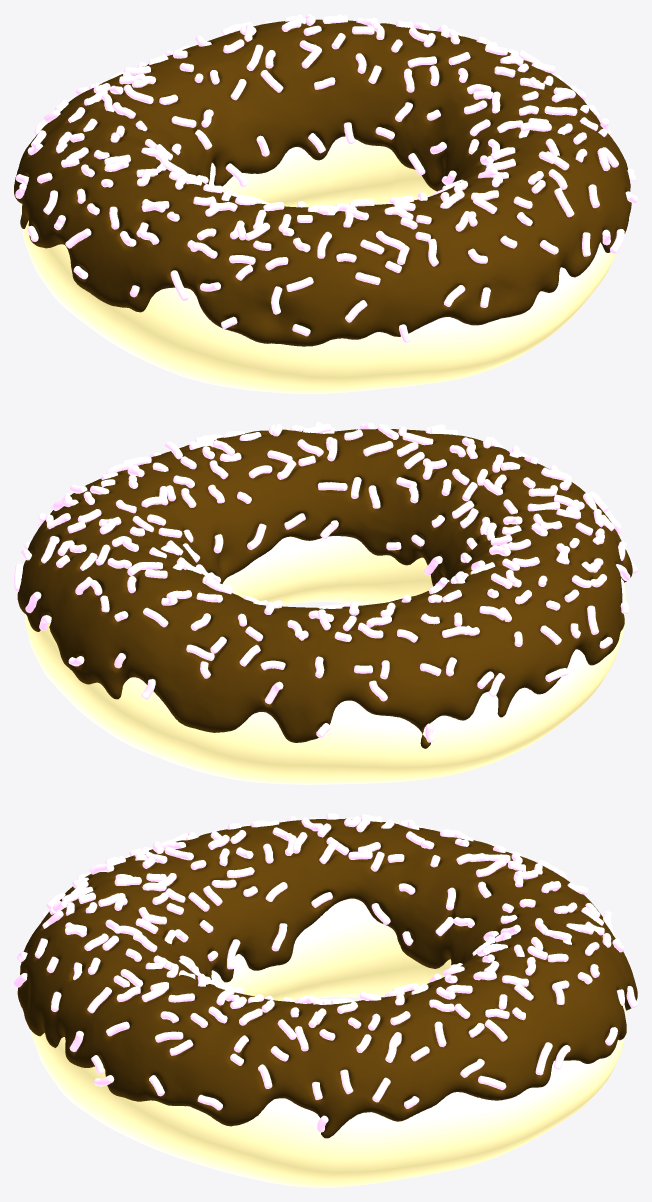
The model's file is donut3.glb.
3 views of the same model, one above another, from view 1: azimuth 30°, elevation 25°; view 2: azimuth 150°, elevation 25°; view 3: azimuth 270°, elevation 25° (orthographic).
Size of what is drawn, in the model's own units: 2.91 by 0.9467 by 2.92.
